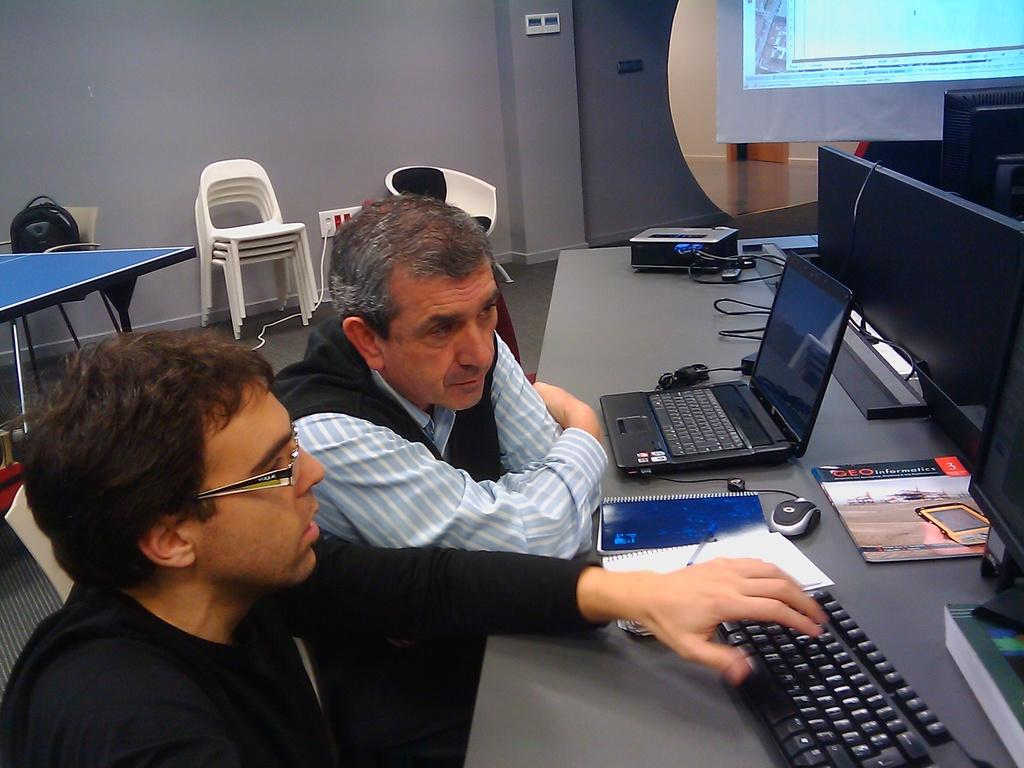Computer-keyboard: (702, 586, 982, 767), (646, 386, 751, 458)
